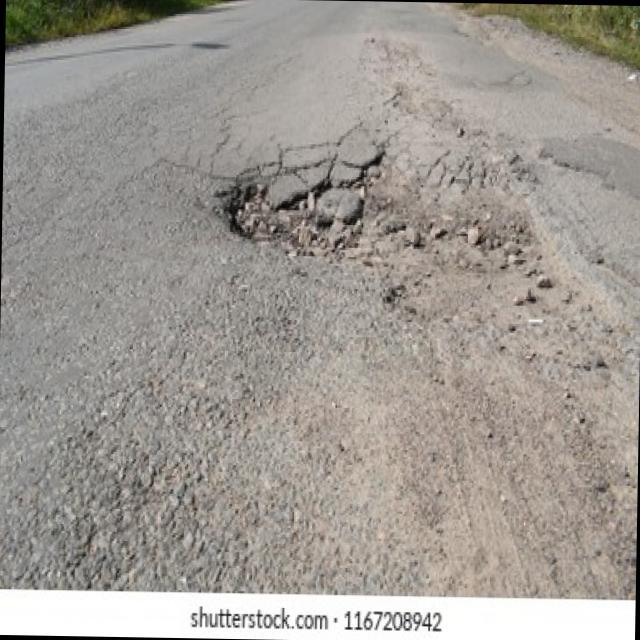Pothole: (224, 146, 384, 268)
